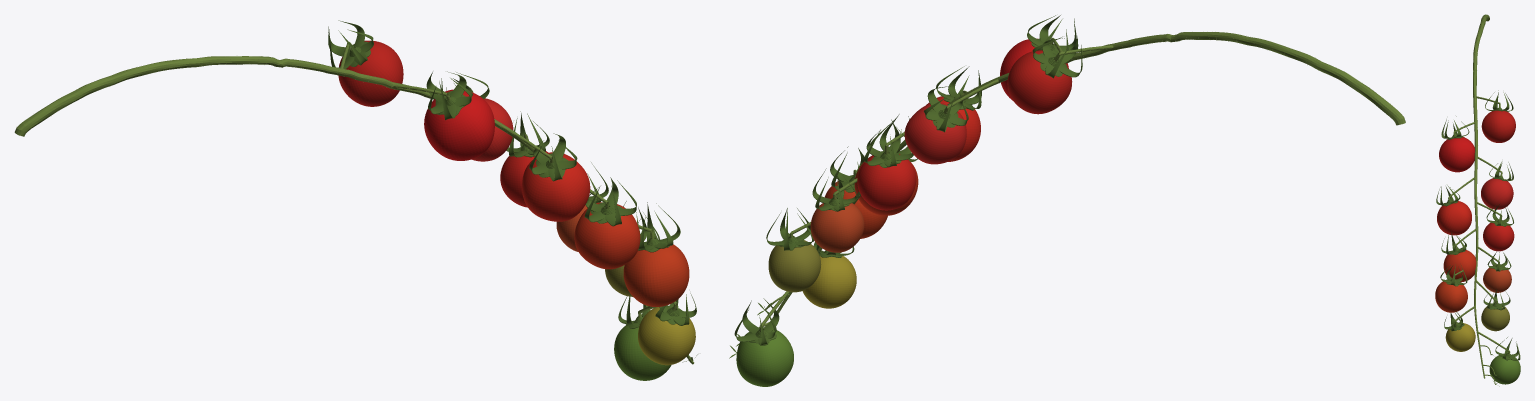
Rendered from tomato_master_v10_cluster_curve_white.glb.
The picture shows the model from 3 angles, left to right: view 1: azimuth 30°, elevation 25°; view 2: azimuth 150°, elevation 25°; view 3: azimuth 270°, elevation 25°; orthographic projection. The views are drawn at different scales.
Visible parts, largest first — view 1: Fruit_02, Fruit_08, Fruit_04, Truss_01_Peduncle, Fruit_06, Fruit_01, Fruit_10, Fruit_11, Rachis, Fruit_05, Fruit_03; view 2: Fruit_01, Truss_01_Peduncle, Fruit_05, Fruit_11, Fruit_03, Fruit_09, Fruit_07, Fruit_10, Rachis, Fruit_04, Fruit_08, Fruit_02; view 3: Fruit_02, Rachis, Fruit_04, Fruit_01, Fruit_03, Fruit_08, Fruit_06, Fruit_05, Fruit_11, Fruit_10, Fruit_07, Fruit_09 (+1 smaller).
Part boxes in pixels (box(x1,y1,x2,y2)): Fruit_02: box(424, 89, 494, 160); Fruit_08: box(623, 244, 689, 306); Fruit_04: box(522, 152, 590, 221); Truss_01_Peduncle: box(14, 56, 283, 136); Fruit_06: box(574, 202, 640, 269); Fruit_01: box(338, 40, 403, 106); Fruit_10: box(638, 307, 695, 365); Fruit_11: box(614, 325, 671, 380); Rachis: box(281, 58, 694, 364); Fruit_05: box(500, 151, 548, 207); Fruit_03: box(472, 98, 513, 161); Fruit_01: box(1007, 50, 1072, 114); Truss_01_Peduncle: box(1170, 32, 1405, 125); Fruit_05: box(857, 154, 916, 210); Fruit_11: box(736, 329, 793, 386); Fruit_03: box(904, 103, 966, 164); Fruit_09: box(768, 240, 821, 292); Fruit_07: box(810, 203, 864, 252); Fruit_10: box(802, 255, 856, 308); Rachis: box(772, 34, 1172, 318); Fruit_04: box(926, 96, 980, 161); Fruit_08: box(825, 181, 887, 238); Fruit_02: box(1000, 38, 1068, 100); Fruit_02: box(1439, 137, 1474, 172); Rachis: box(1473, 69, 1485, 378); Fruit_04: box(1437, 201, 1471, 235); Fruit_01: box(1481, 110, 1515, 142); Fruit_03: box(1481, 178, 1513, 209); Fruit_08: box(1435, 281, 1467, 312); Fruit_06: box(1443, 250, 1476, 282); Fruit_05: box(1483, 222, 1514, 251); Fruit_11: box(1489, 355, 1520, 384); Fruit_10: box(1445, 323, 1475, 351); Fruit_07: box(1483, 265, 1511, 292); Fruit_09: box(1481, 306, 1509, 331).
Size of the model in its own units: 0.5866 by 0.3708 by 0.1253.
